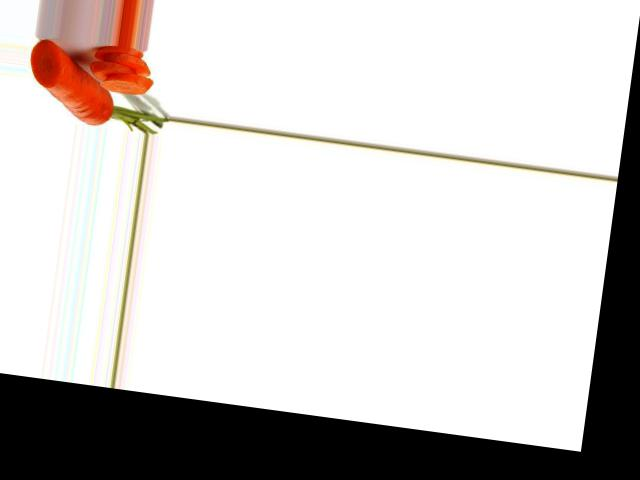carrot: (28, 43, 121, 128)
